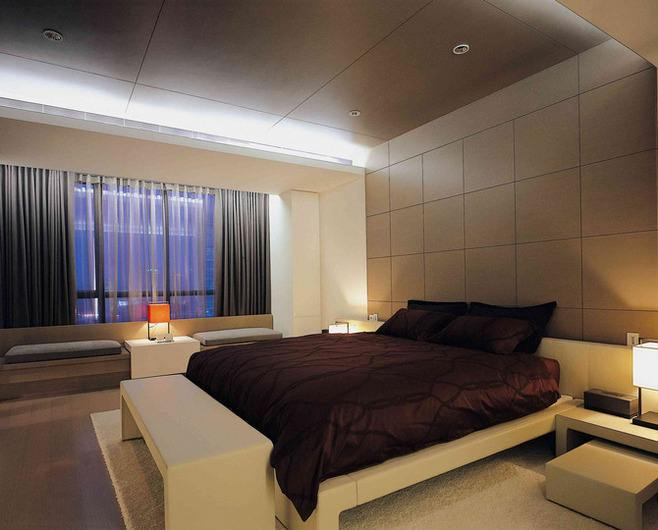床: (138, 328, 572, 499)
枕头: (381, 302, 552, 354)
灯: (626, 339, 657, 431), (140, 303, 175, 343), (41, 30, 66, 46), (448, 43, 473, 59), (348, 108, 365, 122)
